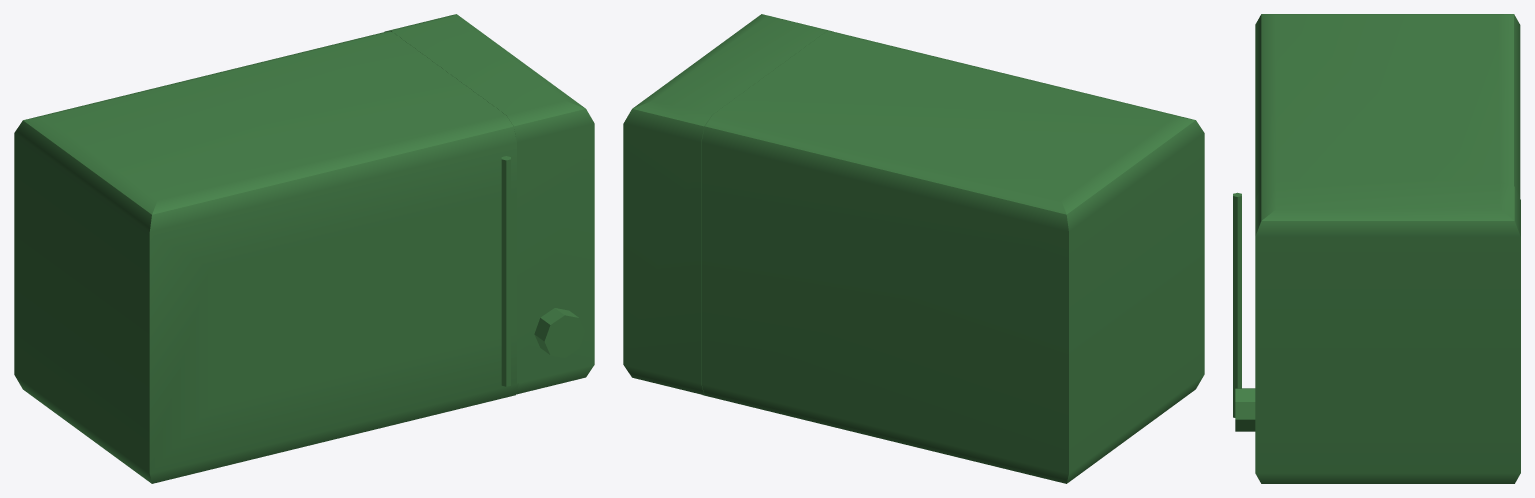
The model's file is microwave.fbx.
3 renders of one model, left to right at view 1: azimuth 30°, elevation 25°; view 2: azimuth 150°, elevation 25°; view 3: azimuth 270°, elevation 25°, orthographic. The views are drawn at different scales.
Visible parts, largest first — view 1: polySurface651; view 2: polySurface651; view 3: polySurface651.
Boxes of the visible parts, bbox=[...] form: polySurface651: bbox=[14, 14, 594, 483]; polySurface651: bbox=[623, 14, 1204, 483]; polySurface651: bbox=[1233, 14, 1520, 483].
Size of the model in its own units: 3.76 by 2.27 by 2.15.
